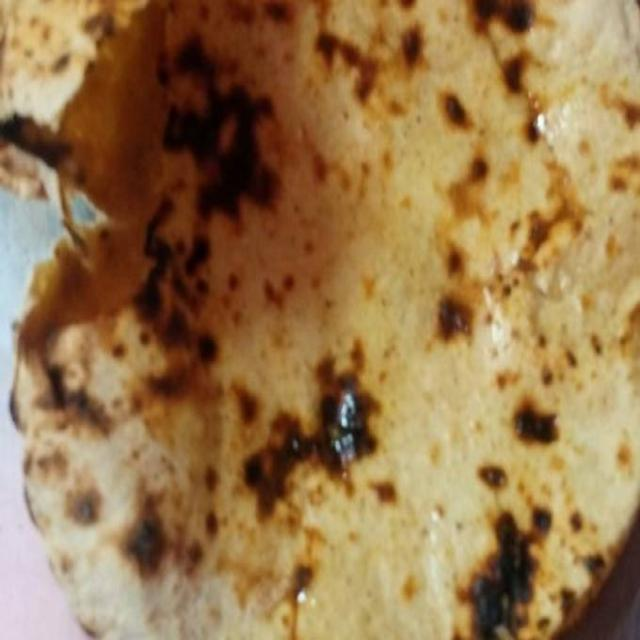ROTI: (1, 0, 639, 639)
